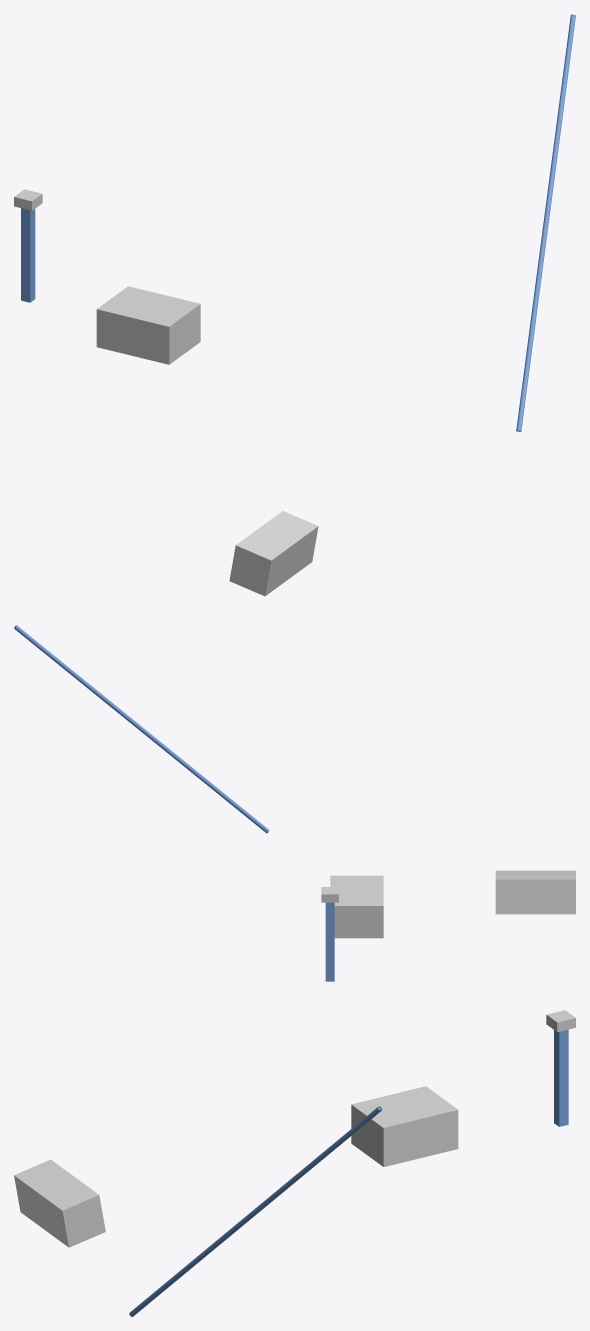
Rendered from chunk.glb.
The picture shows the model from 3 angles, top to bottom: view 1: azimuth 30°, elevation 25°; view 2: azimuth 150°, elevation 25°; view 3: azimuth 270°, elevation 25°; orthographic projection. The views are drawn at different scales.
Bounding box in the file's own units: 5.54 × 3.55 × 5.21.
